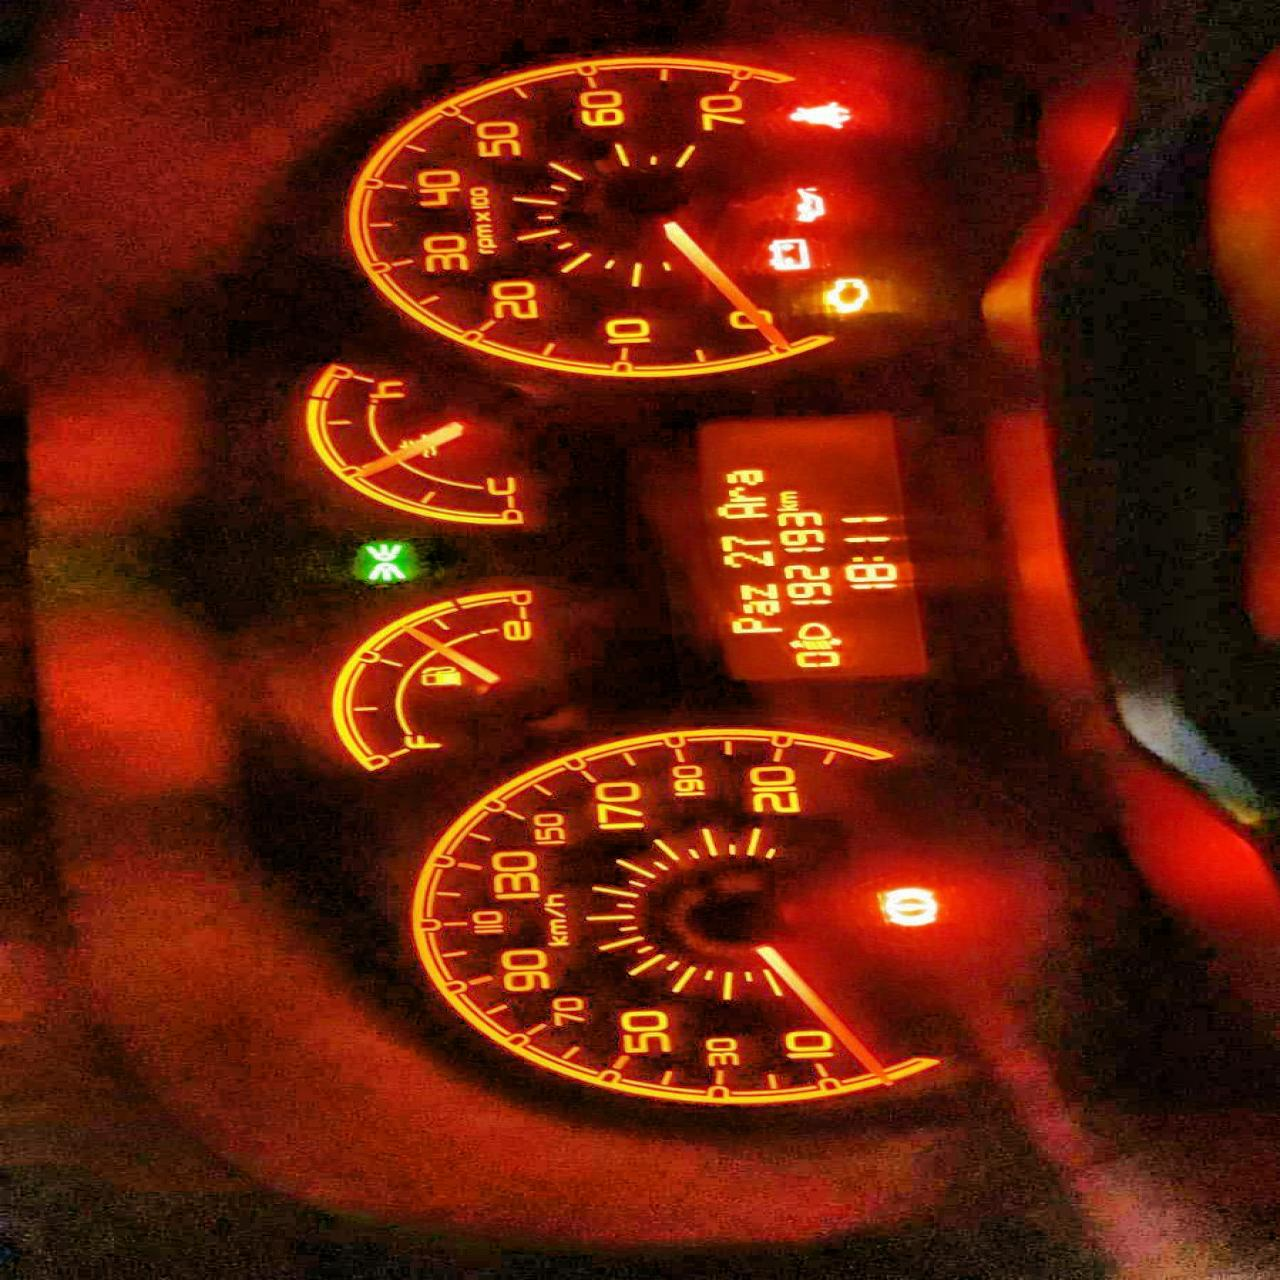0: (790, 649, 842, 668)
1: (839, 532, 894, 544), (845, 580, 903, 590), (837, 513, 893, 523), (788, 598, 835, 606), (778, 545, 829, 552)
2: (721, 550, 774, 568), (778, 563, 830, 579)
3: (774, 511, 825, 526)
7: (717, 535, 770, 550)
8: (842, 564, 899, 581)
9: (783, 581, 833, 597), (776, 529, 823, 544)
X: (710, 502, 768, 519), (728, 618, 782, 634), (735, 580, 781, 599), (724, 486, 767, 502), (738, 599, 781, 614), (723, 469, 763, 484), (844, 553, 888, 561), (777, 490, 797, 503), (775, 502, 798, 511)
odometer: (676, 408, 941, 685)
